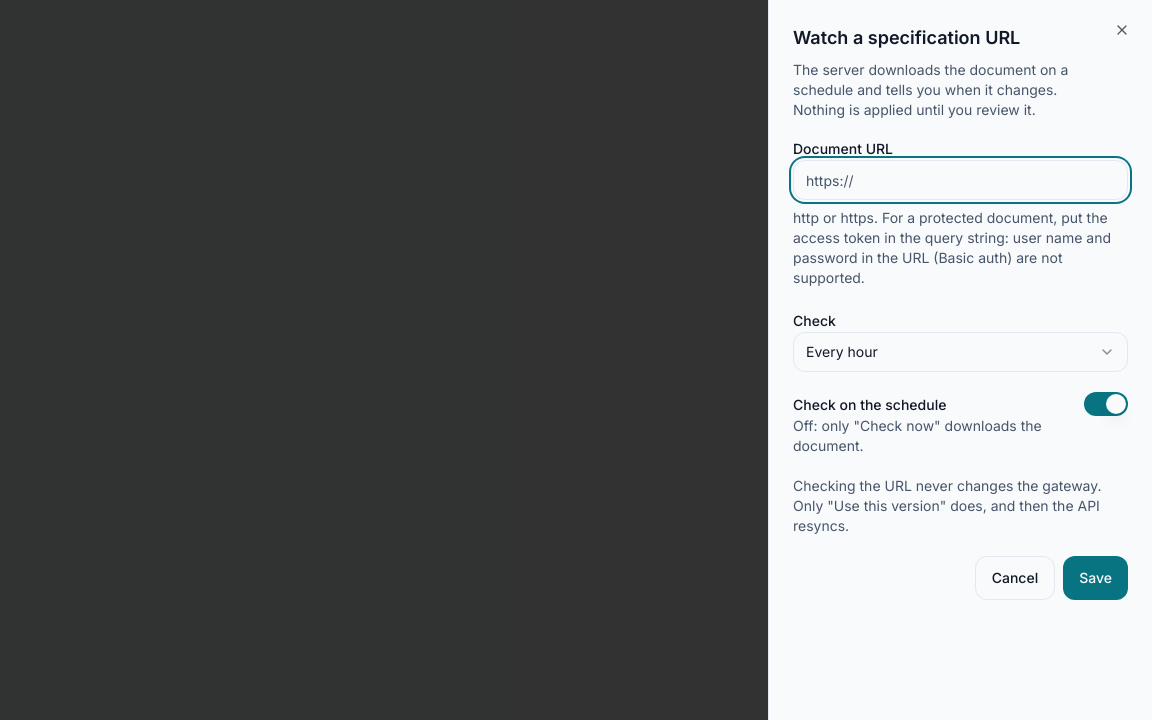
SpecSourceSheet › refuses https://user:pass@specs.example.com/spec before any request
This screenshot has width=1152, height=720.
Type "https://user:pass@specs.example.com/spec" into the field labelled "Document URL" at (960, 180), box [793,160,1128,200]
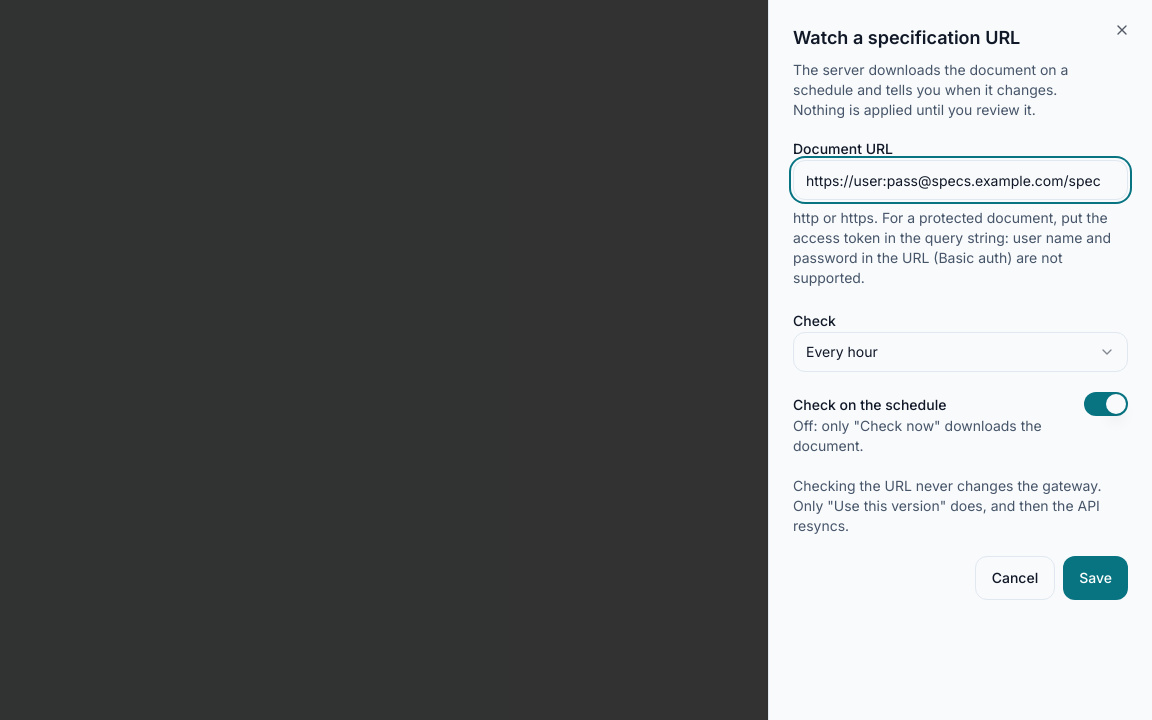
Click the button "Save" at (1096, 578), box [1063,556,1128,600]
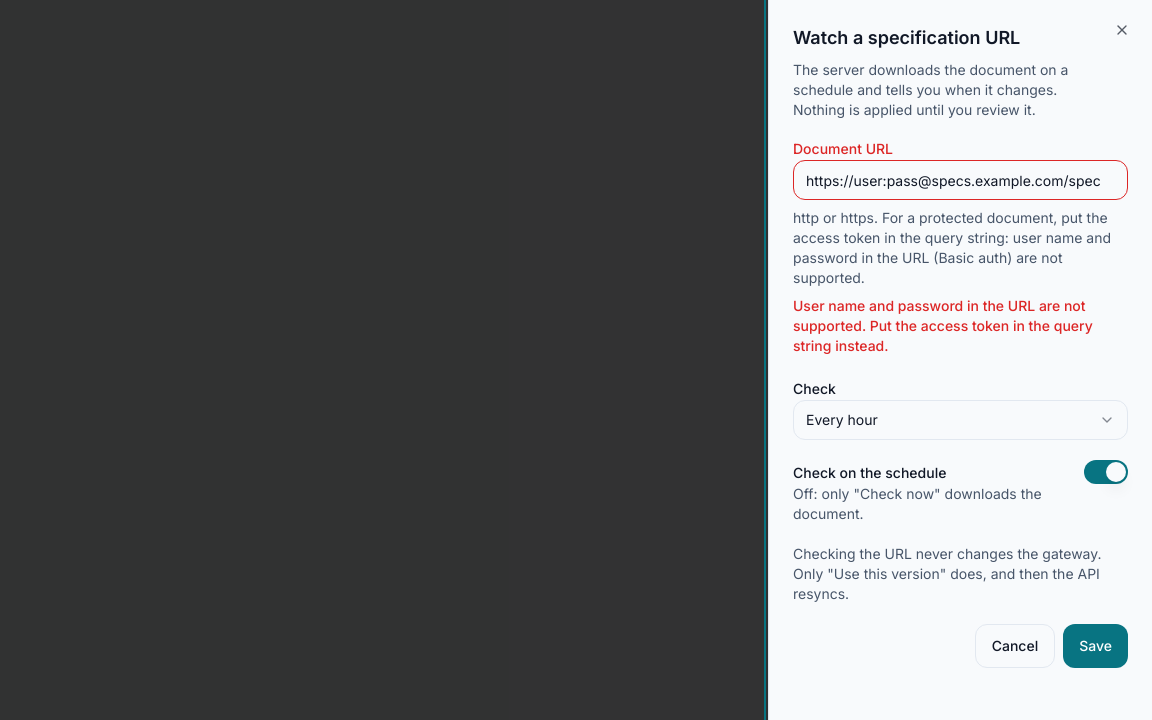
Now the text "User name and password in the URL are not supported. Put the access token in the query string instead." is shown, box [793,297,1093,354]
